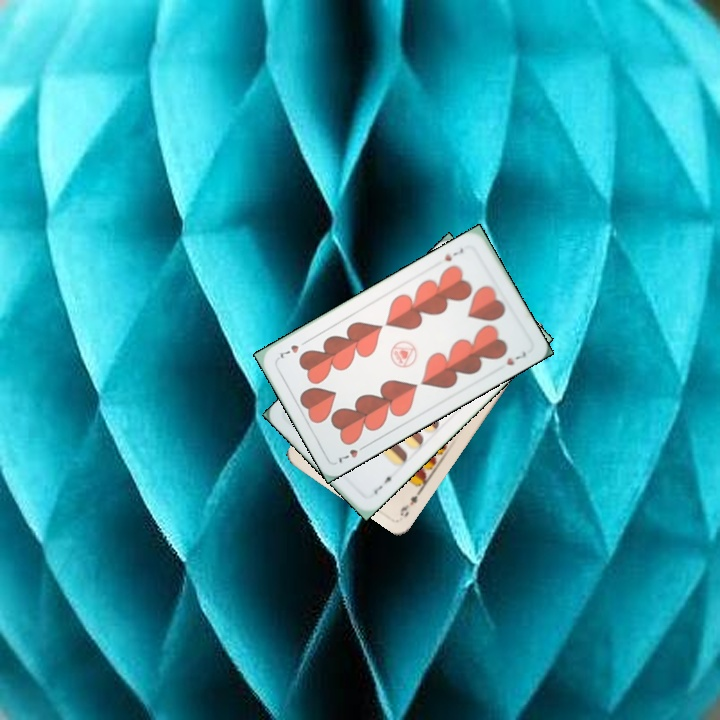E7: (370, 470, 398, 497)
E9: (396, 485, 424, 520)
H7: (334, 440, 370, 467), (440, 244, 466, 264)
